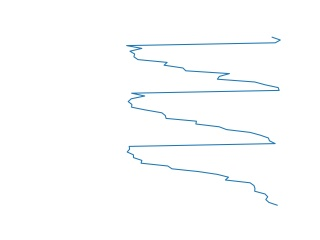distributaryMouthBar: (122, 38, 283, 208)
